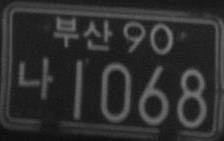0: (99, 61, 133, 124), (148, 22, 173, 56)
1: (63, 59, 92, 121)
6: (137, 65, 169, 127)
8: (176, 67, 208, 129)
9: (122, 19, 146, 53)
나: (17, 56, 53, 100)
부산_O: (54, 14, 112, 50)
